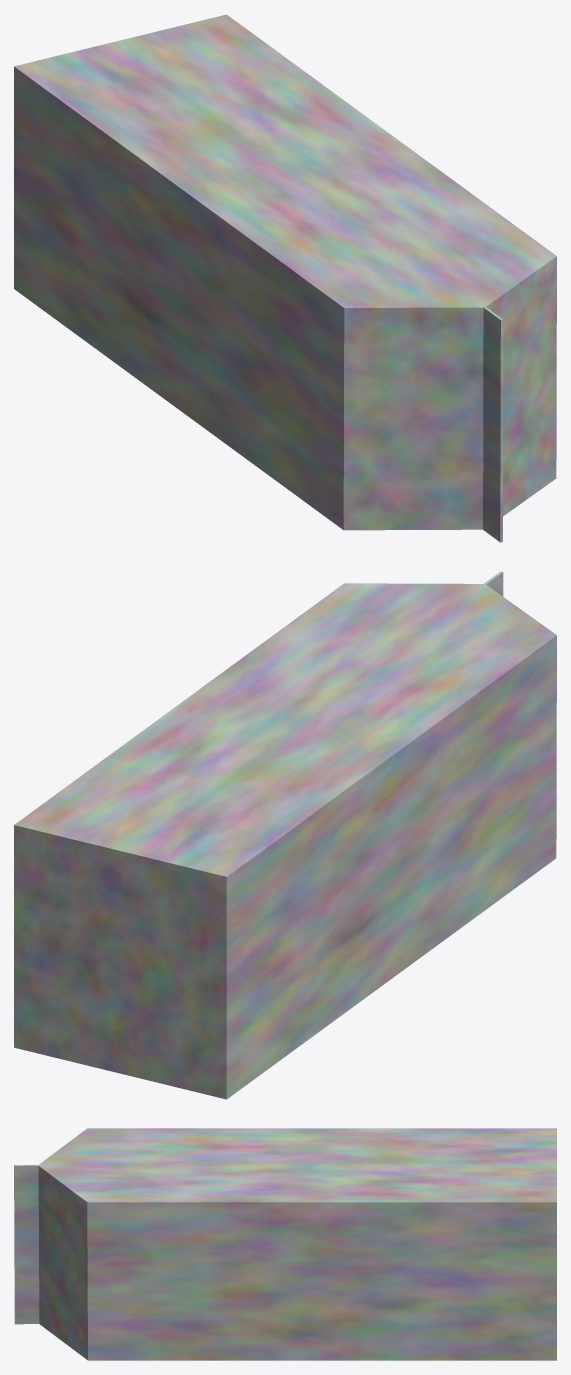
Rendered from milk_noise_tex.obj.
3 renders of one model, top to bottom at view 1: azimuth 30°, elevation 25°; view 2: azimuth 150°, elevation 25°; view 3: azimuth 270°, elevation 25°, orthographic. The views are drawn at different scales.
Parts seen in each view (by area): view 1: milk_noise_tex_Cube.001; view 2: milk_noise_tex_Cube.001; view 3: milk_noise_tex_Cube.001.
Part boxes in pixels (left/top/right/bottom): milk_noise_tex_Cube.001: left=14, top=14, right=556, bottom=542; milk_noise_tex_Cube.001: left=14, top=571, right=556, bottom=1099; milk_noise_tex_Cube.001: left=14, top=1128, right=556, bottom=1360.
Size of the model in its own units: 0.071 by 0.071 by 0.2205.
Materials: 1 (1 with a texture image).
